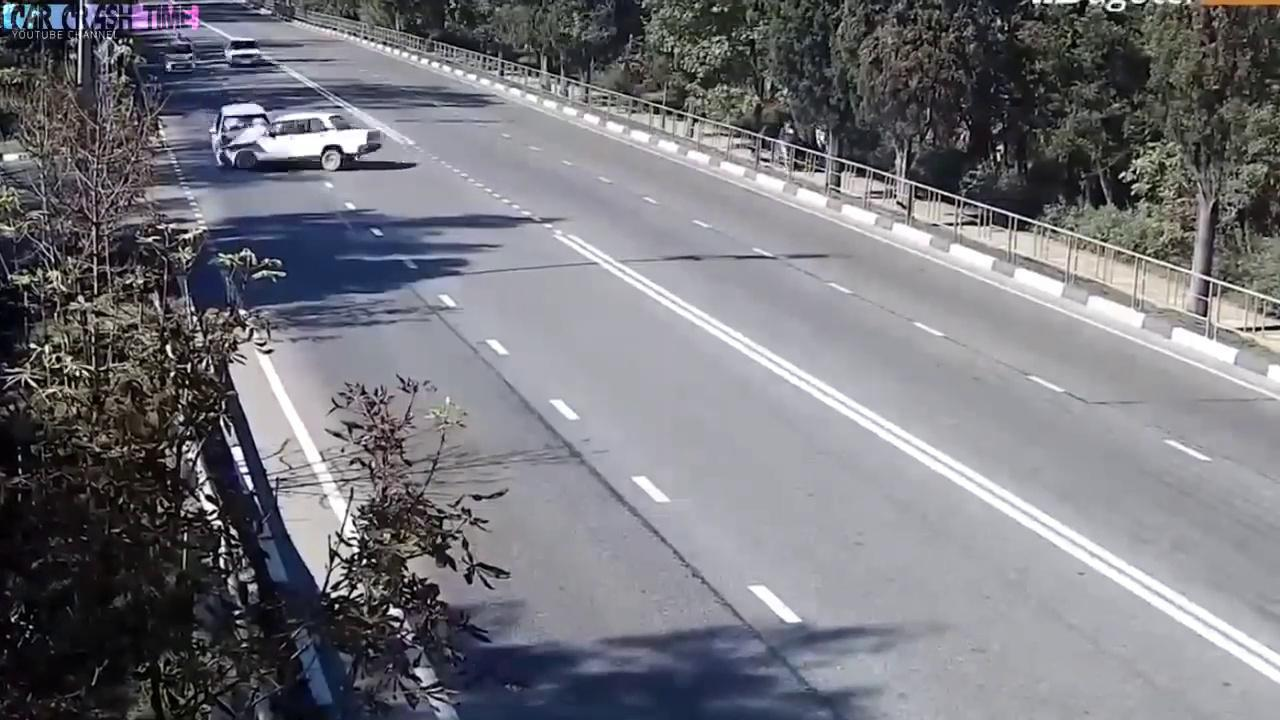car-accident: (213, 103, 378, 173)
